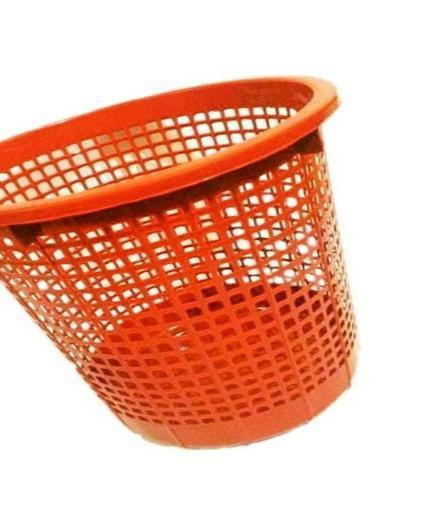Bote de Basura: (0, 72, 350, 452)
